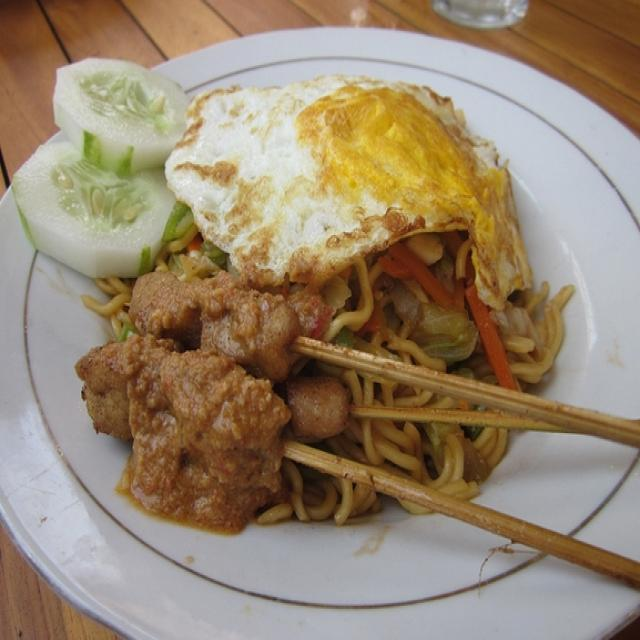面条主食: (16, 34, 611, 597)
